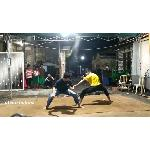Celurit: (44, 91, 66, 101)
